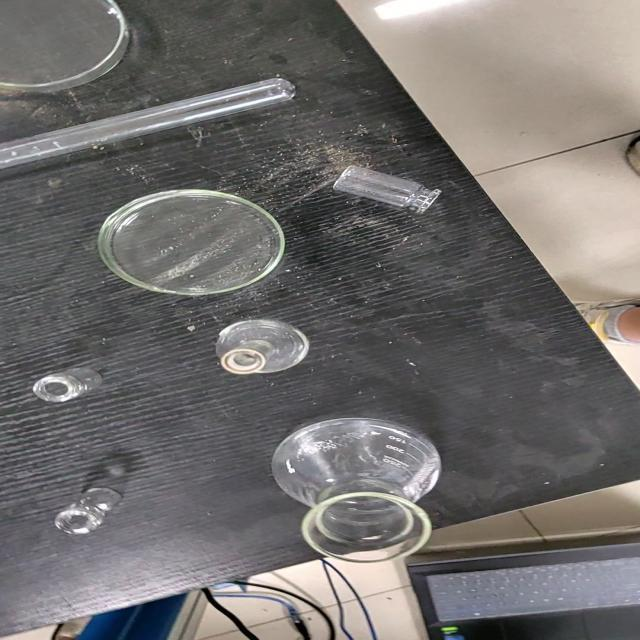bottles: (332, 164, 441, 215)
cardboard: (1, 0, 638, 636)
cups: (270, 415, 441, 545), (214, 317, 309, 375)
